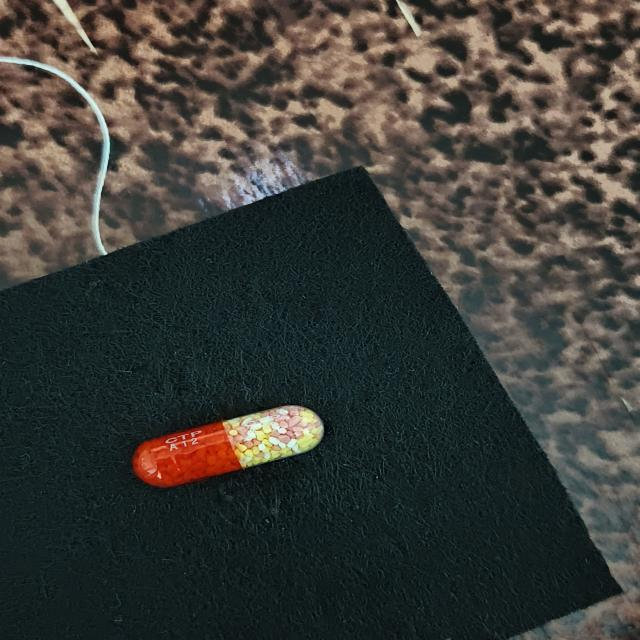Intact Capsule: (132, 405, 324, 487)
